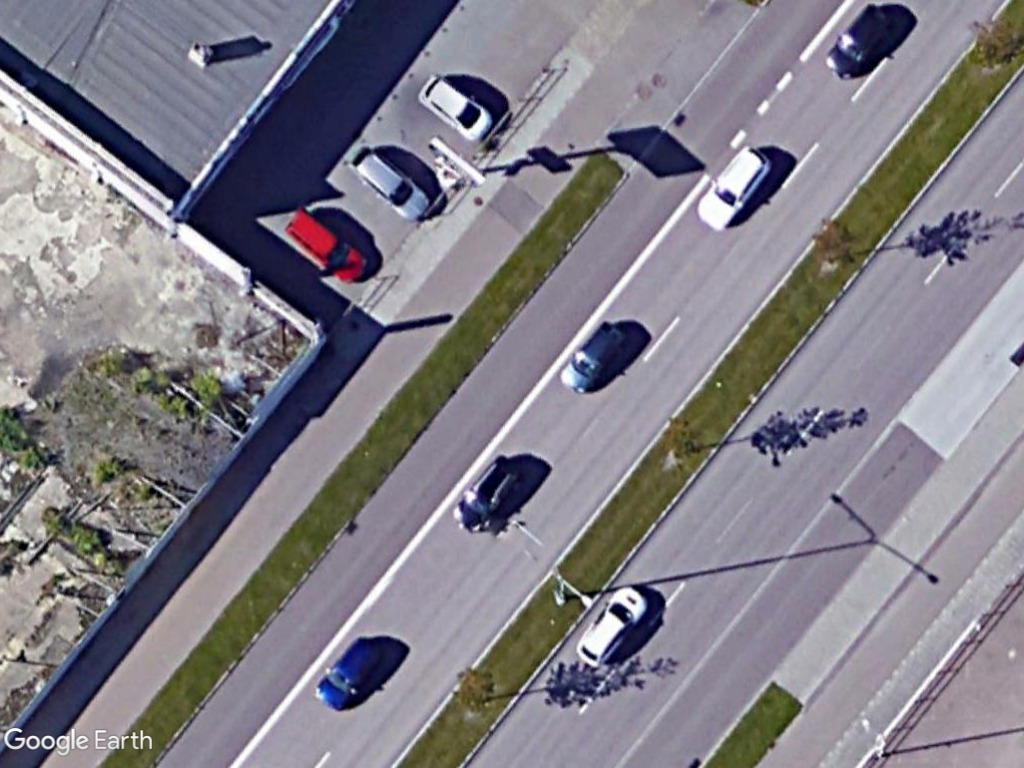car: (280, 204, 381, 291), (693, 142, 774, 235), (571, 583, 652, 669), (349, 144, 434, 225), (450, 450, 521, 540), (553, 316, 629, 399), (311, 629, 384, 712), (821, 3, 897, 81), (416, 72, 495, 146)
